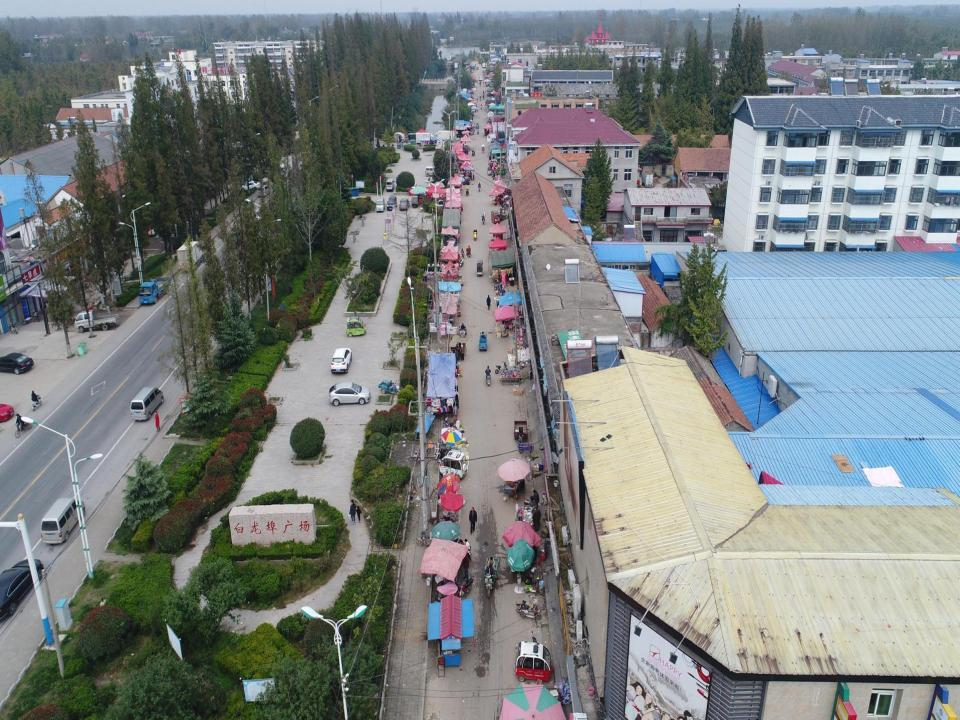car: (0, 556, 46, 628), (327, 380, 371, 404), (0, 350, 34, 376), (330, 345, 352, 374), (257, 183, 274, 199), (239, 180, 261, 192), (387, 195, 398, 212), (399, 197, 410, 212), (478, 75, 482, 81)
truck: (74, 307, 120, 334), (139, 276, 172, 304), (434, 140, 444, 152)
van: (40, 496, 86, 548), (127, 386, 163, 421), (424, 164, 439, 178), (376, 195, 386, 212), (386, 177, 395, 192)
